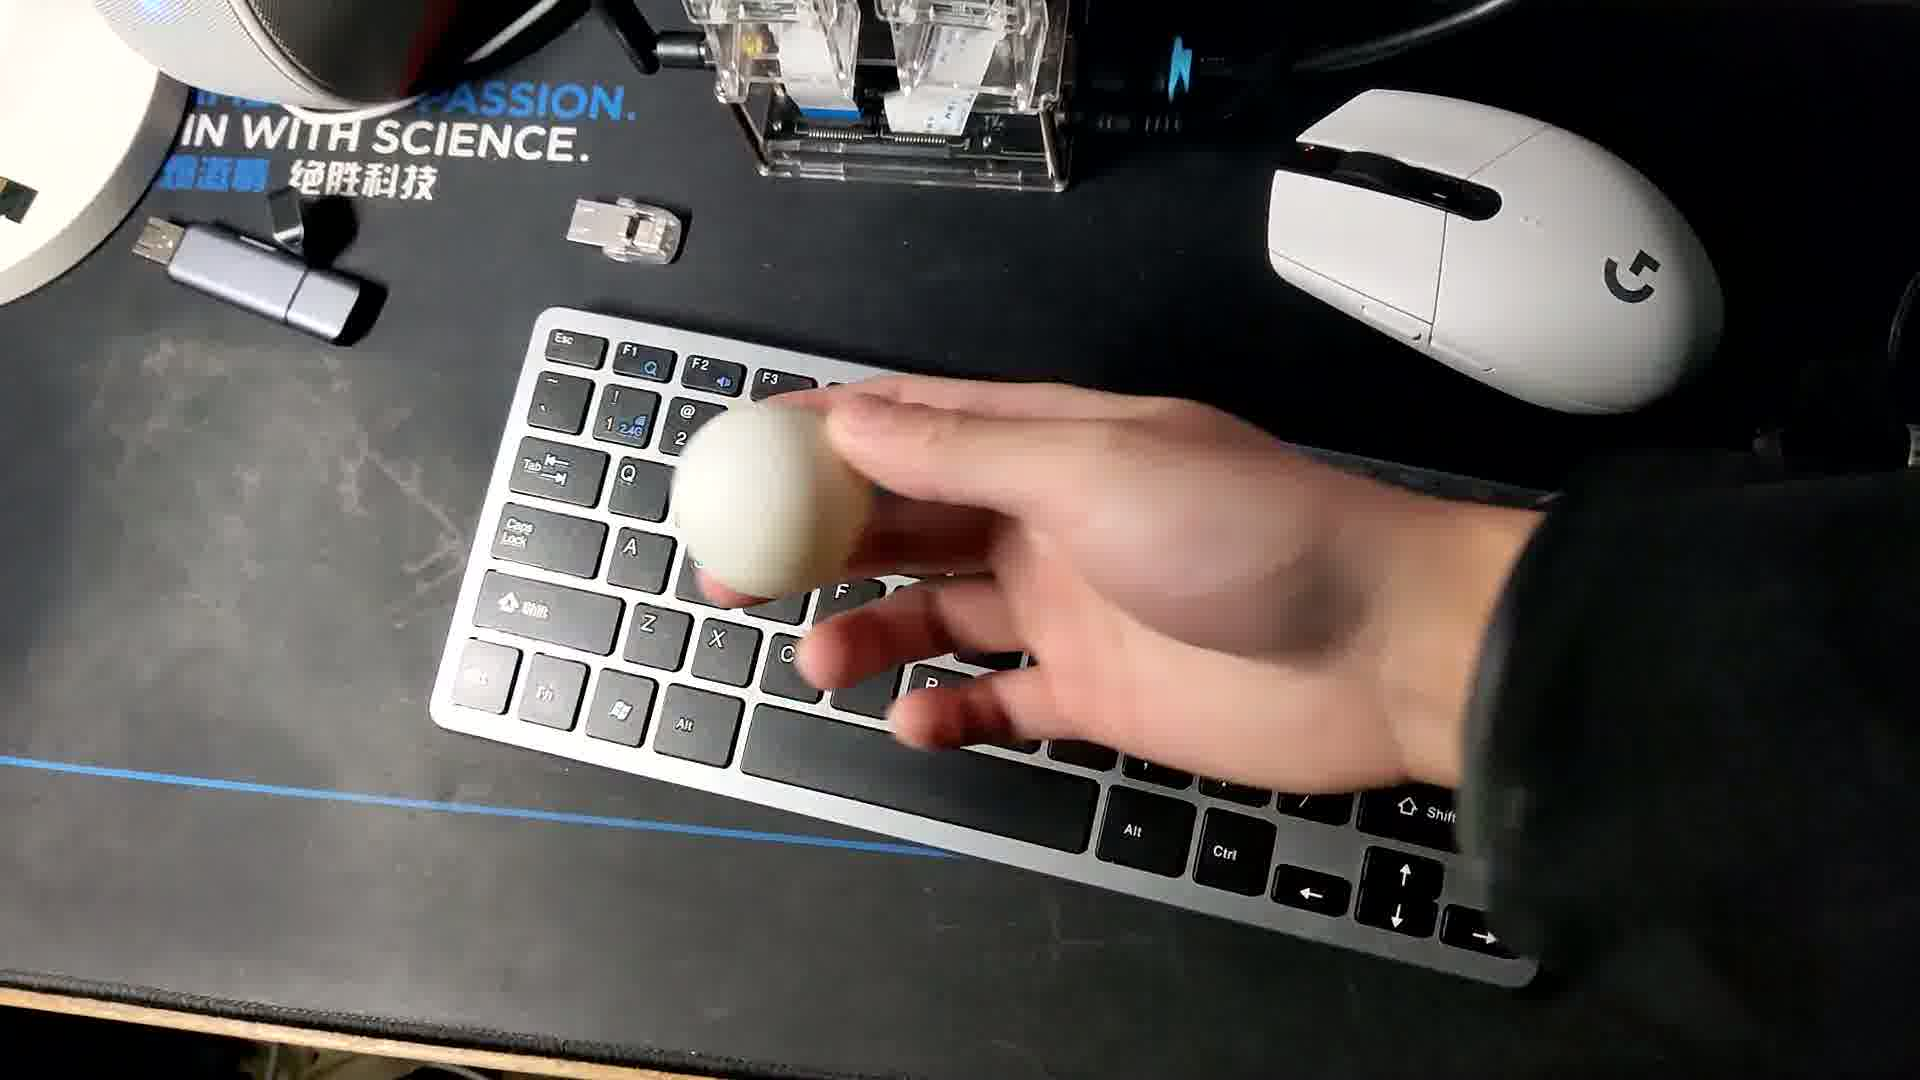Ball: (673, 405, 870, 608)
